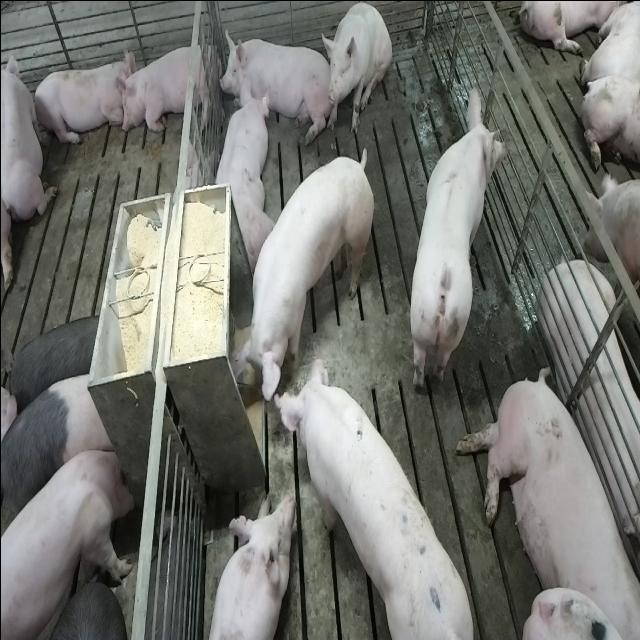Feeding: (230, 142, 374, 419)
Lateral_lying: (457, 365, 640, 640)
Sitting: (322, 0, 393, 134)
Standing: (270, 351, 478, 640), (407, 84, 506, 399), (0, 433, 135, 640), (0, 373, 117, 537), (8, 310, 113, 414)
Sternal_lying: (540, 256, 640, 538), (206, 484, 296, 640), (219, 28, 331, 141), (212, 78, 272, 262), (33, 47, 138, 151), (117, 36, 219, 142), (0, 54, 55, 223)
